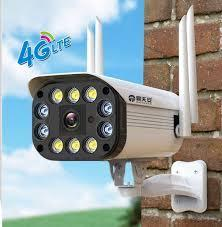tutu: (26, 65, 192, 168)
